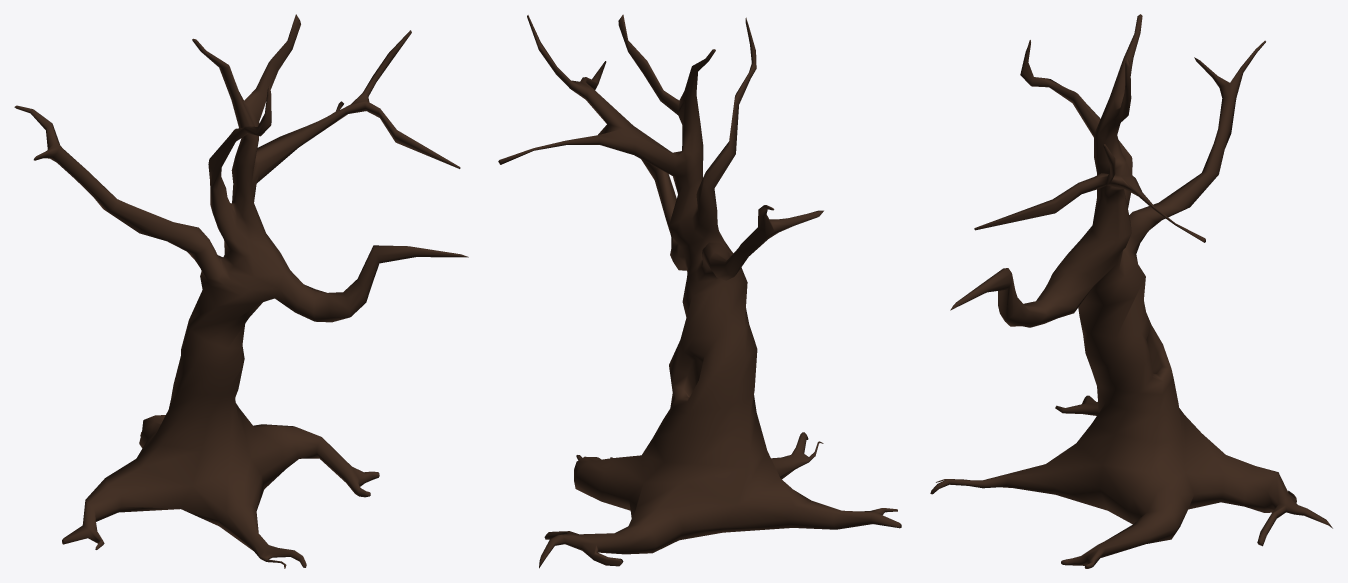
File: DeadTree_LoWPoly 1.fbx
3 views of the same model, side by side, from view 1: azimuth 30°, elevation 25°; view 2: azimuth 150°, elevation 25°; view 3: azimuth 270°, elevation 25° (orthographic). The views are drawn at different scales.
Visible parts, largest first — view 1: DeadTree_LoWPoly; view 2: DeadTree_LoWPoly; view 3: DeadTree_LoWPoly.
Boxes of the visible parts, x1,y1,x2,y2 form: DeadTree_LoWPoly: (14, 14, 468, 568); DeadTree_LoWPoly: (498, 14, 901, 568); DeadTree_LoWPoly: (930, 14, 1332, 568).
Bounding box in the file's own units: 4849 × 6126 × 4578.
